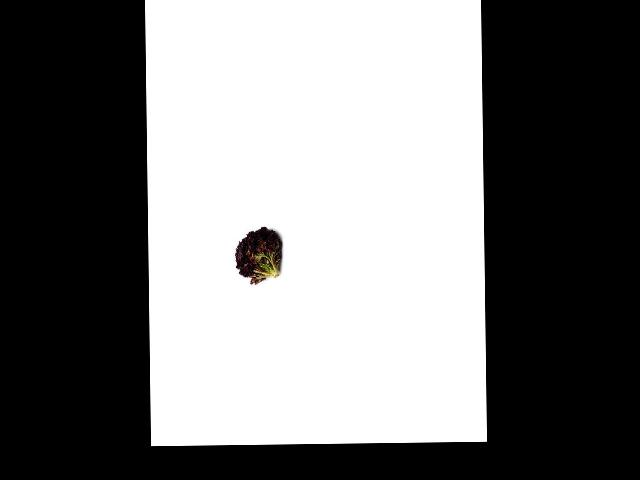lettuce: (233, 224, 285, 281)
